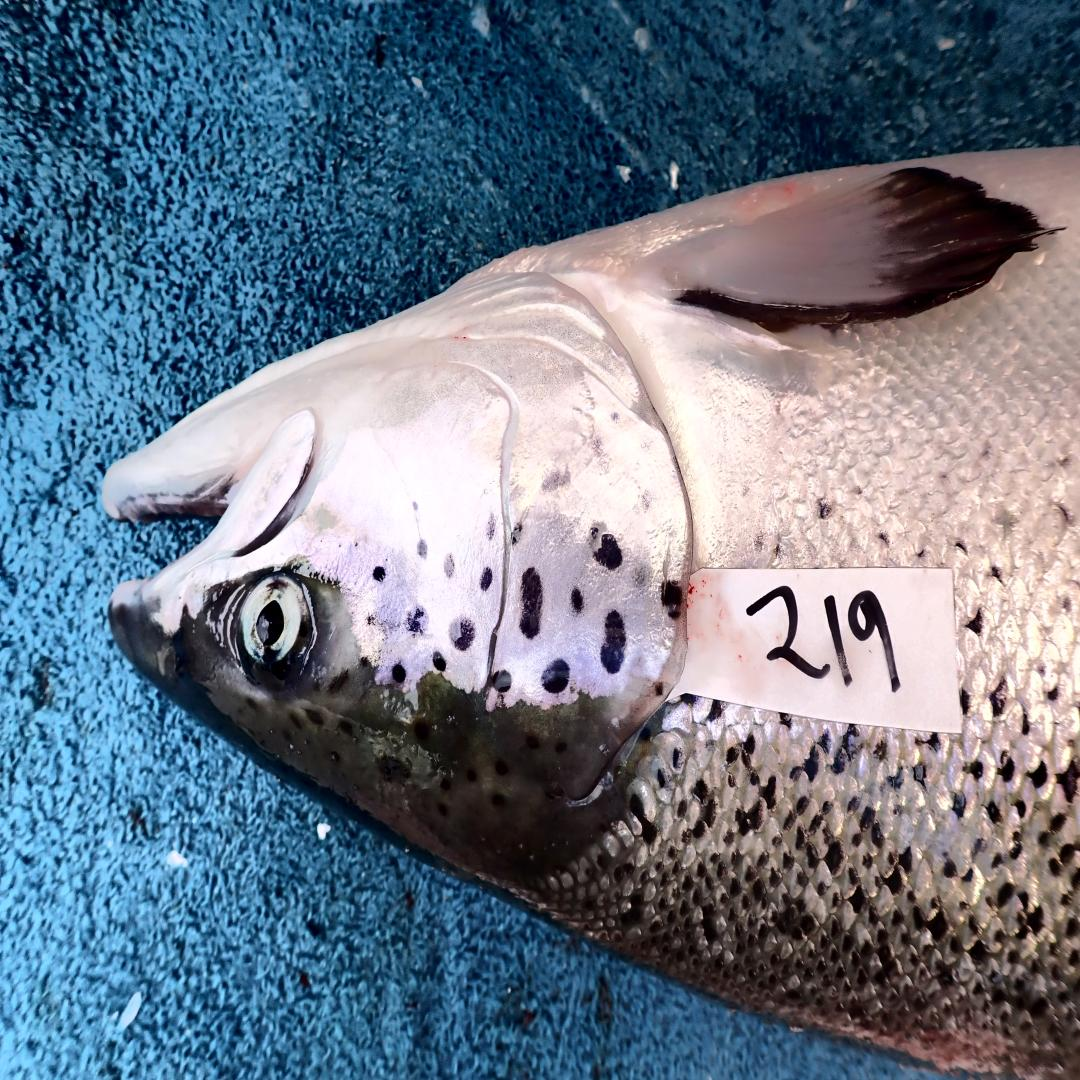spot: (601, 610, 626, 675), (519, 568, 542, 638), (542, 658, 570, 695), (595, 534, 622, 571), (660, 579, 683, 619), (542, 467, 572, 492), (451, 619, 475, 650), (407, 608, 429, 636), (491, 669, 513, 692), (572, 588, 584, 613), (443, 554, 456, 577), (510, 522, 522, 546), (392, 664, 407, 683), (634, 567, 647, 588), (432, 652, 445, 672), (481, 568, 491, 591), (487, 515, 496, 540), (373, 565, 386, 582), (418, 540, 428, 560), (654, 681, 664, 696), (591, 525, 598, 540), (366, 614, 375, 625), (412, 500, 418, 512)
